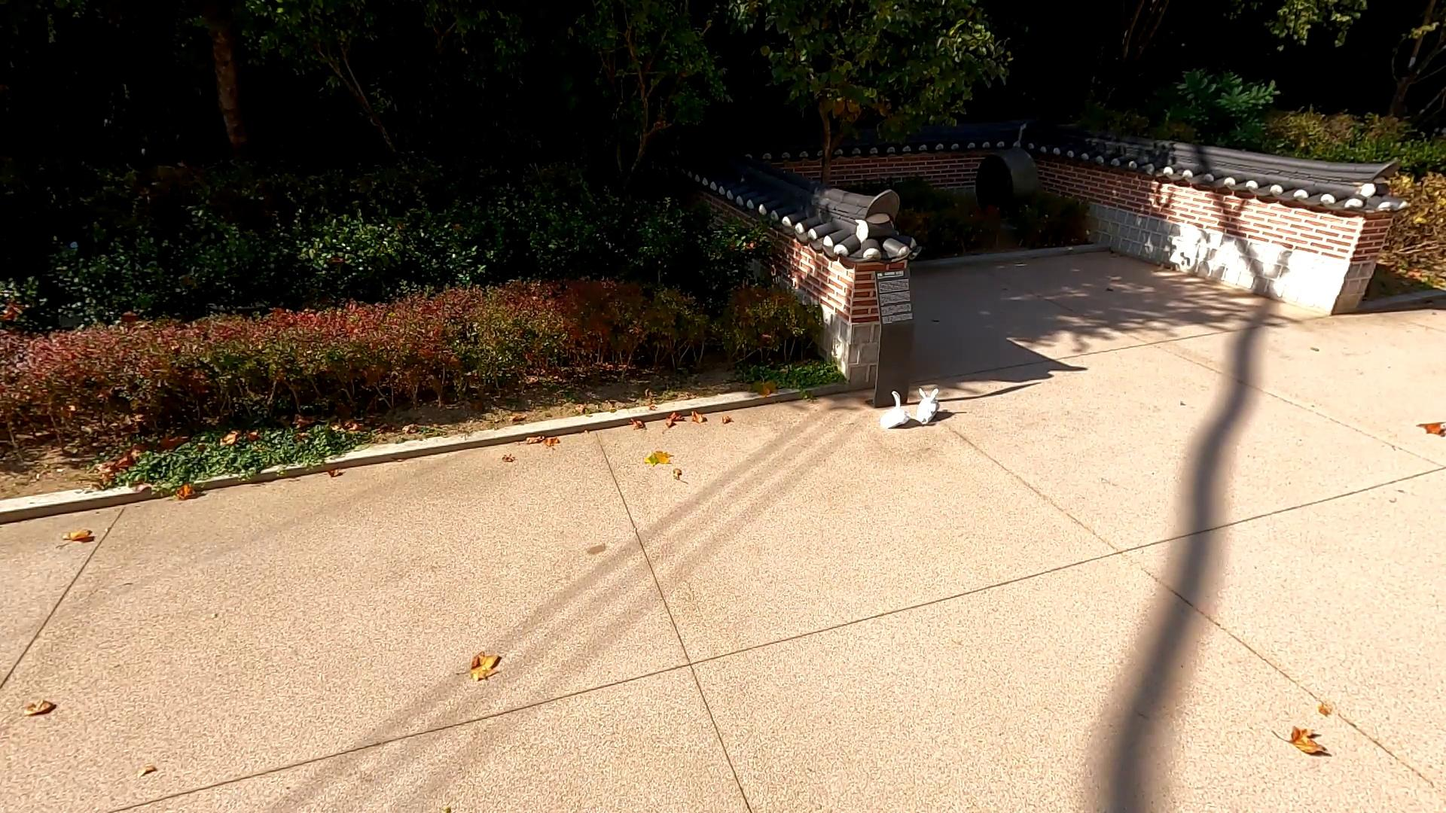trash: (880, 388, 912, 432), (916, 385, 941, 427)
